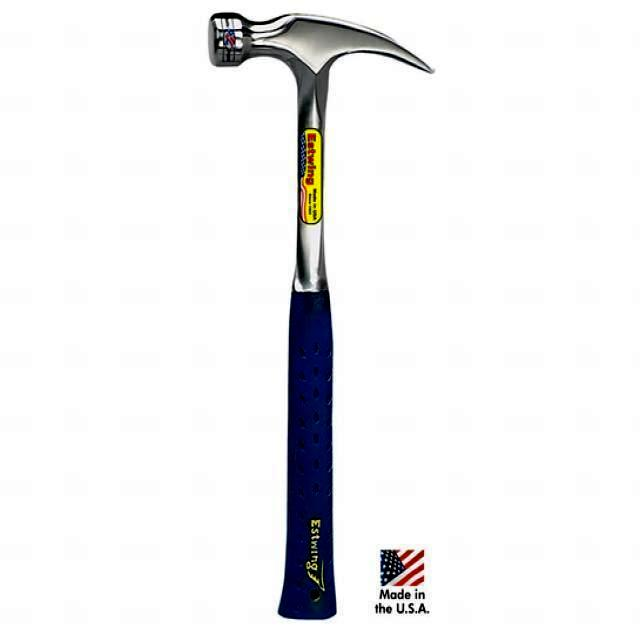hammer: (191, 9, 439, 632)
